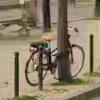bicycles: (26, 21, 86, 87)
